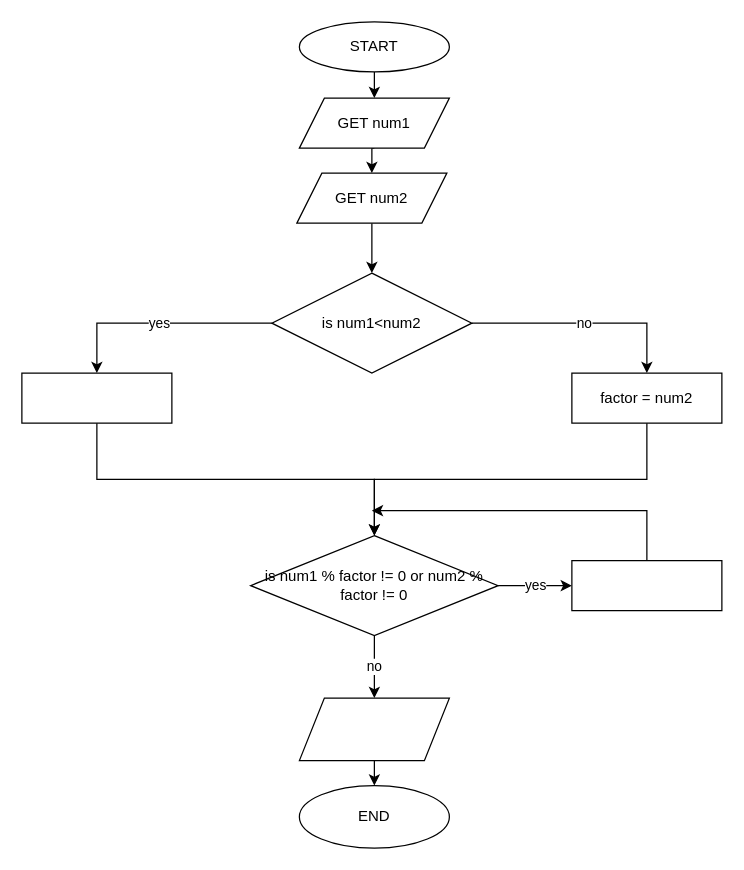
This 744x870 diagram has some shape labels left out. The shapes that lost their labels are listed below. From the top down, each one's centre as x and y in pixels, then its label:
At (x=96, y=397): "factor = num1".
At (x=646, y=585): "factor = factor -1".
At (x=373, y=729): "Show factor".
